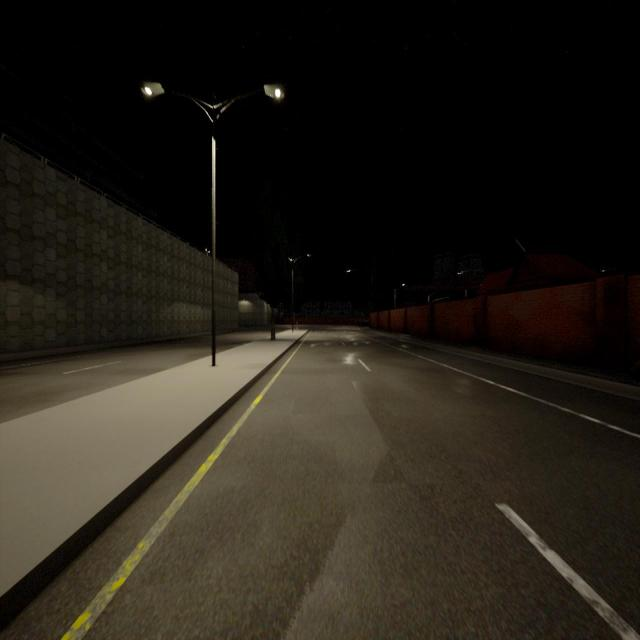Vehicle: (360, 320, 369, 326)
